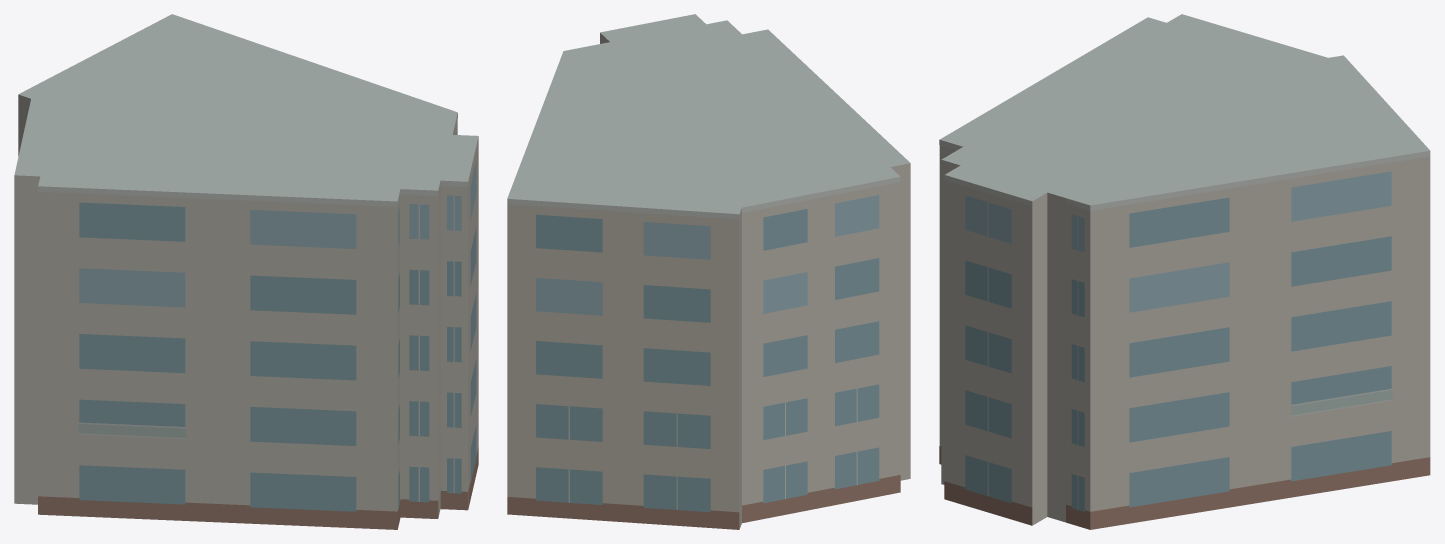
The model's file is survey-upis-32865959.glb.
The picture shows the model from 3 angles, left to right: view 1: azimuth 30°, elevation 25°; view 2: azimuth 150°, elevation 25°; view 3: azimuth 270°, elevation 25°; orthographic projection. The views are drawn at different scales.
Visible parts, largest first — view 1: survey-upis-32865959.tmp; view 2: survey-upis-32865959.tmp; view 3: survey-upis-32865959.tmp.
Boxes of the visible parts, x1,y1,x2,y2 form: survey-upis-32865959.tmp: (14,14,478,529); survey-upis-32865959.tmp: (507,14,910,529); survey-upis-32865959.tmp: (939,14,1430,529).
Bounding box in the file's own units: 18.36 × 14.5 × 19.89.
